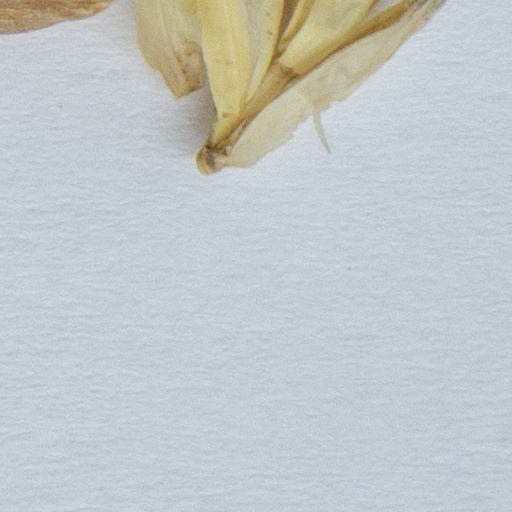Peel-poly: (131, 0, 454, 171)
